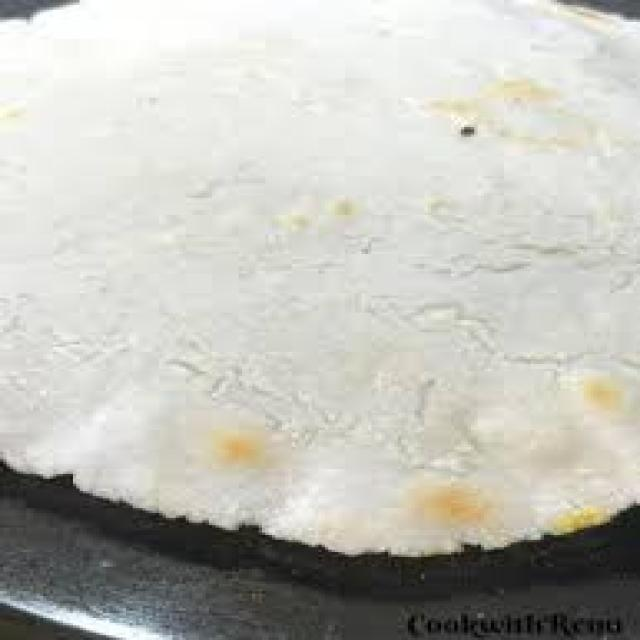RICE BHAKRI: (6, 6, 637, 553)
